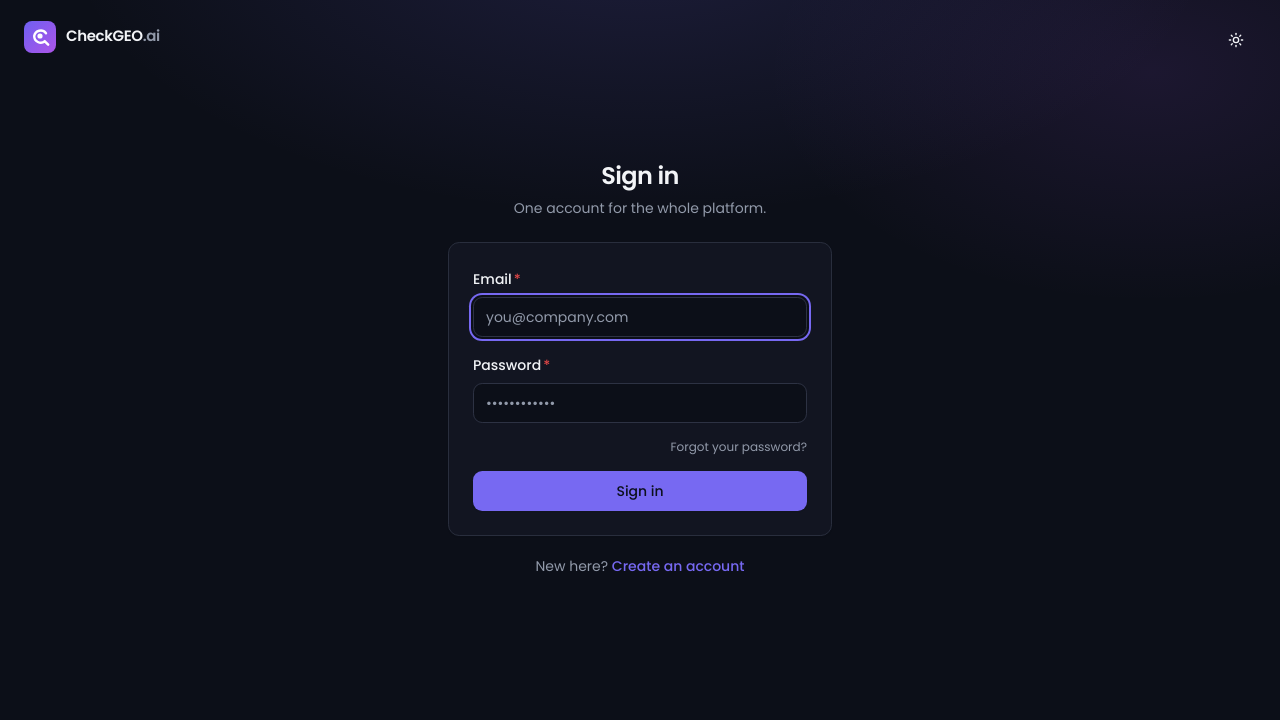
Login page › shows the server error and stays put on bad credentials
The image size is (1280, 720).
Type "person@example.com" into the field labelled "Email*". click: (640, 317)
box: [473,297,807,337]
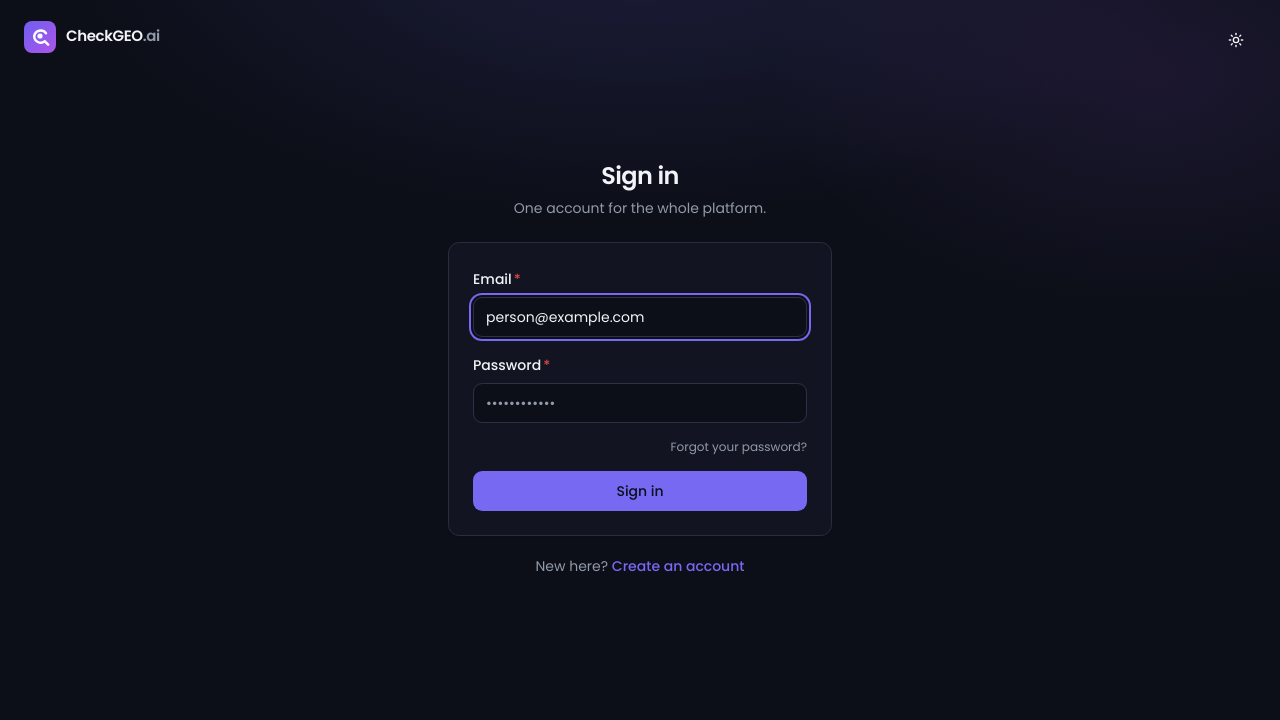
Type "wrong-password-here" into the password field labelled "Password*". click: (640, 403)
box: [473,383,807,423]
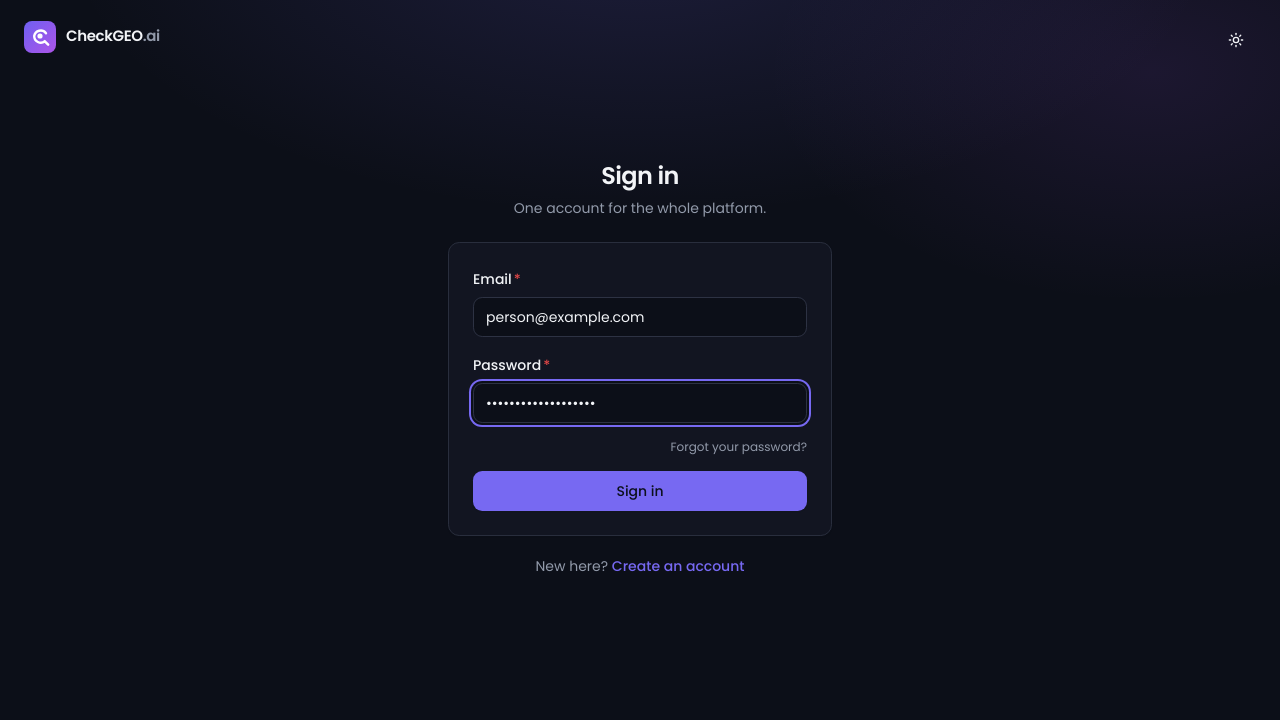
Click the button "Sign in". click: click(640, 491)
box: [473,471,807,511]
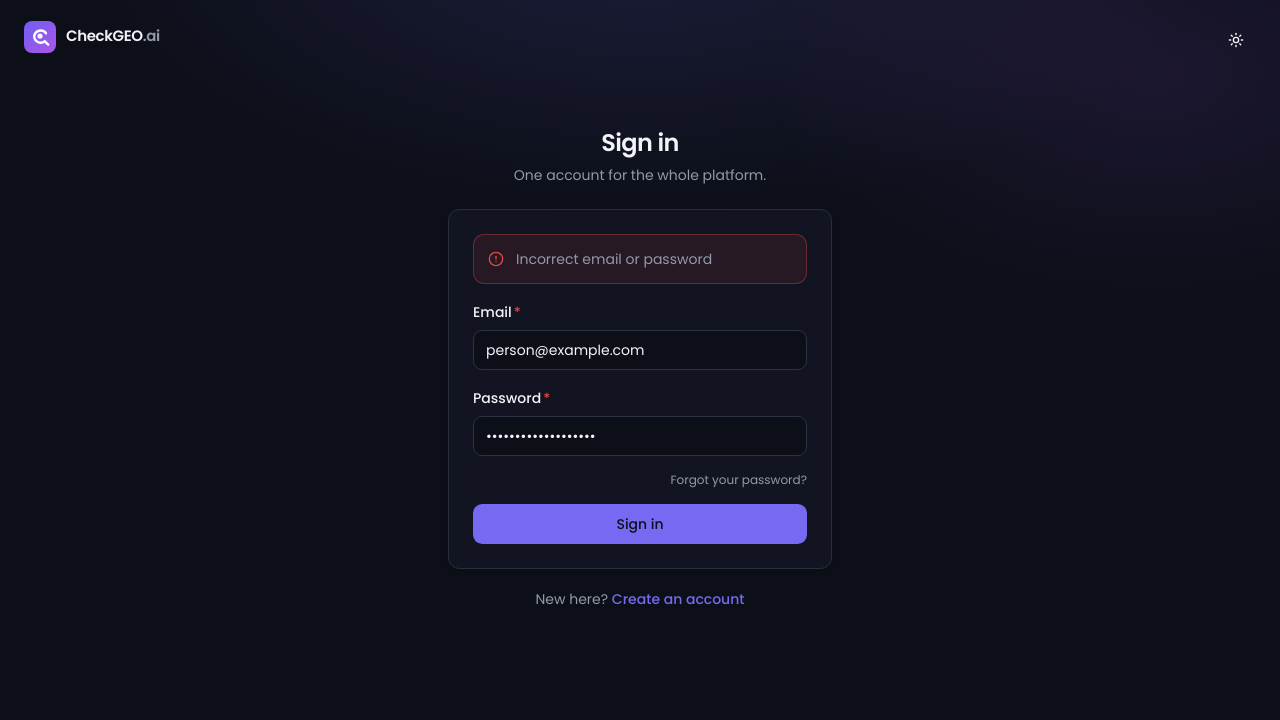
Check: the message reads "Incorrect email or password", box [516,249,712,269]
